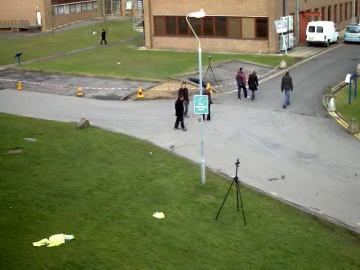person: (173, 86, 190, 128), (171, 92, 186, 129), (173, 92, 187, 129)
